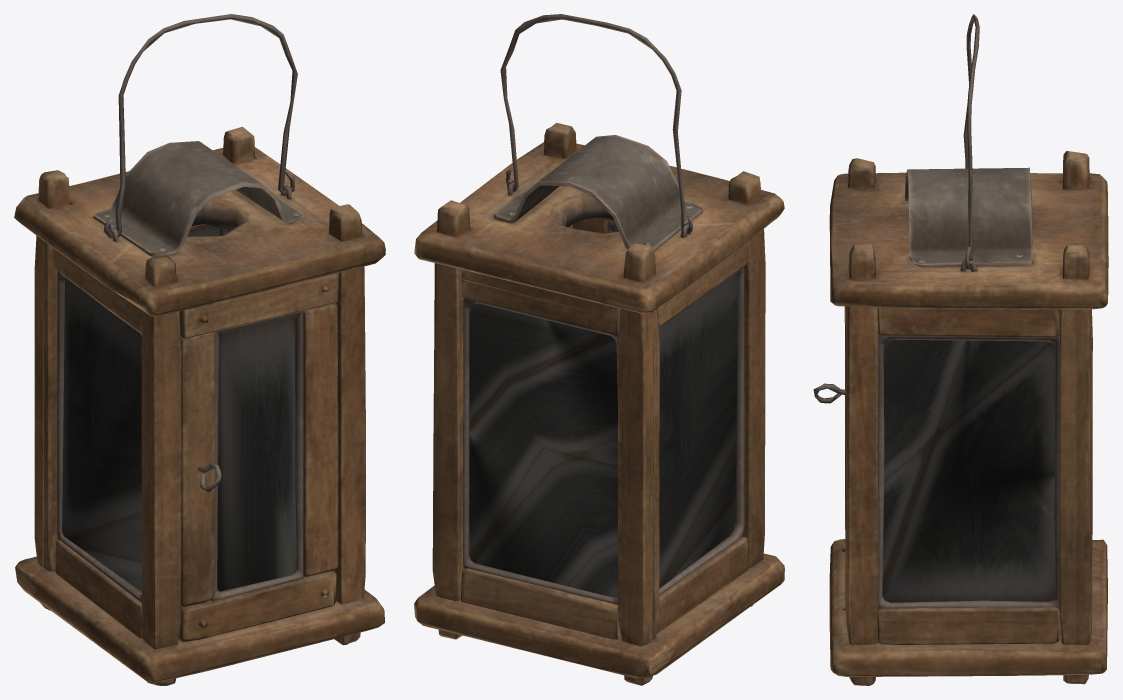
Rendered from ph2_wooden_lantern_01.glb.
3 renders of one model, left to right at view 1: azimuth 30°, elevation 25°; view 2: azimuth 150°, elevation 25°; view 3: azimuth 270°, elevation 25°, orthographic.
Bounding box in the file's own units: 0.2209 × 0.5301 × 0.2336.
Materials: 2 (2 with a texture image).
